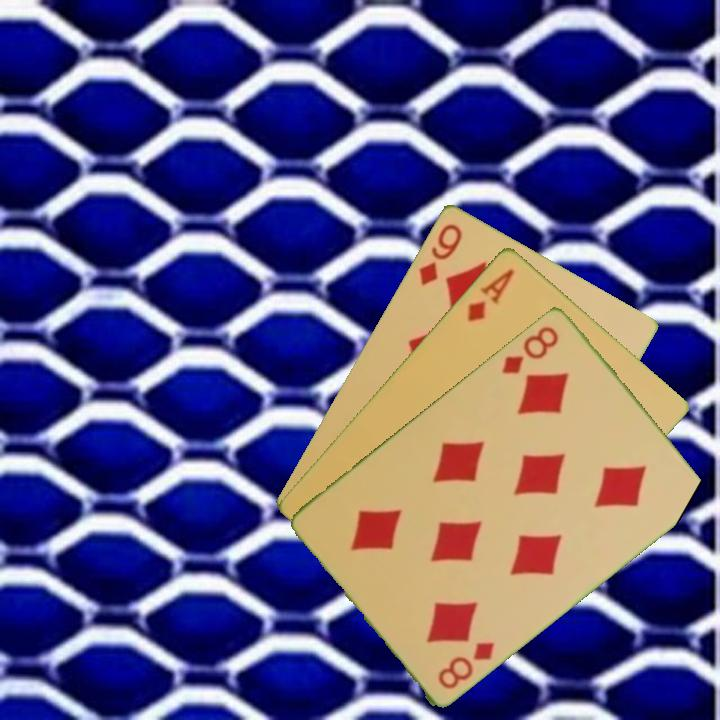8d: (498, 321, 562, 377), (434, 637, 498, 692)
9d: (415, 219, 465, 288)
Ad: (463, 264, 517, 324)
